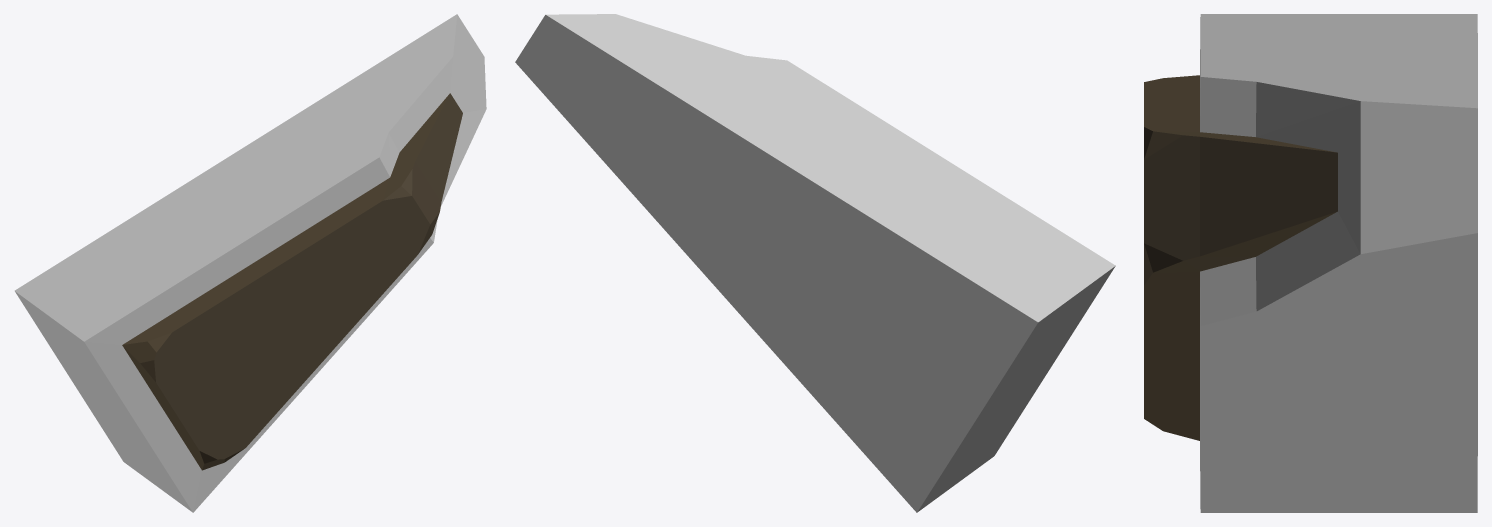
The model's file is EVT_ADDON_NW_TROLLPORTAL_PORTAL_04.OBJ.
3 views of the same model, side by side, from view 1: azimuth 30°, elevation 25°; view 2: azimuth 150°, elevation 25°; view 3: azimuth 270°, elevation 25° (orthographic). The views are drawn at different scales.
Parts seen in each view (by area): view 1: EVT_ADDON_NW_TROLLPORTAL_PORTAL_04; view 2: EVT_ADDON_NW_TROLLPORTAL_PORTAL_04; view 3: EVT_ADDON_NW_TROLLPORTAL_PORTAL_04.
Boxes of the visible parts, x1,y1,x2,y2 form: EVT_ADDON_NW_TROLLPORTAL_PORTAL_04: [14, 14, 486, 512]; EVT_ADDON_NW_TROLLPORTAL_PORTAL_04: [515, 14, 1115, 512]; EVT_ADDON_NW_TROLLPORTAL_PORTAL_04: [1144, 14, 1477, 512].
Bounding box in the file's own units: 1.93 × 1.43 × 0.5959.
